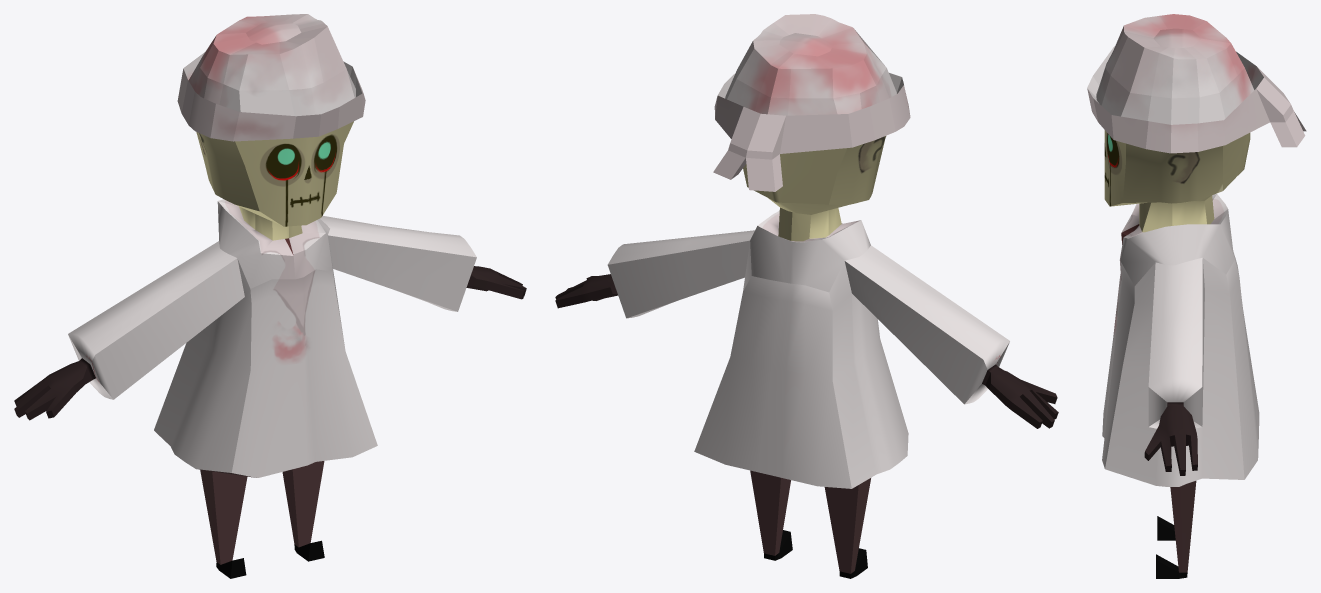
File: Worker.fbx
The picture shows the model from 3 angles, left to right: view 1: azimuth 30°, elevation 25°; view 2: azimuth 150°, elevation 25°; view 3: azimuth 270°, elevation 25°; orthographic projection.
Visible parts, largest first — view 1: Mesh_Doctor_NPC; view 2: Mesh_Doctor_NPC; view 3: Mesh_Doctor_NPC.
Part boxes in pixels (left/top/right/bottom): Mesh_Doctor_NPC: left=14, top=14, right=526, bottom=578; Mesh_Doctor_NPC: left=555, top=14, right=1058, bottom=578; Mesh_Doctor_NPC: left=1087, top=14, right=1306, bottom=578.
Size of the model in its own units: 9.39 by 9.51 by 3.57.
